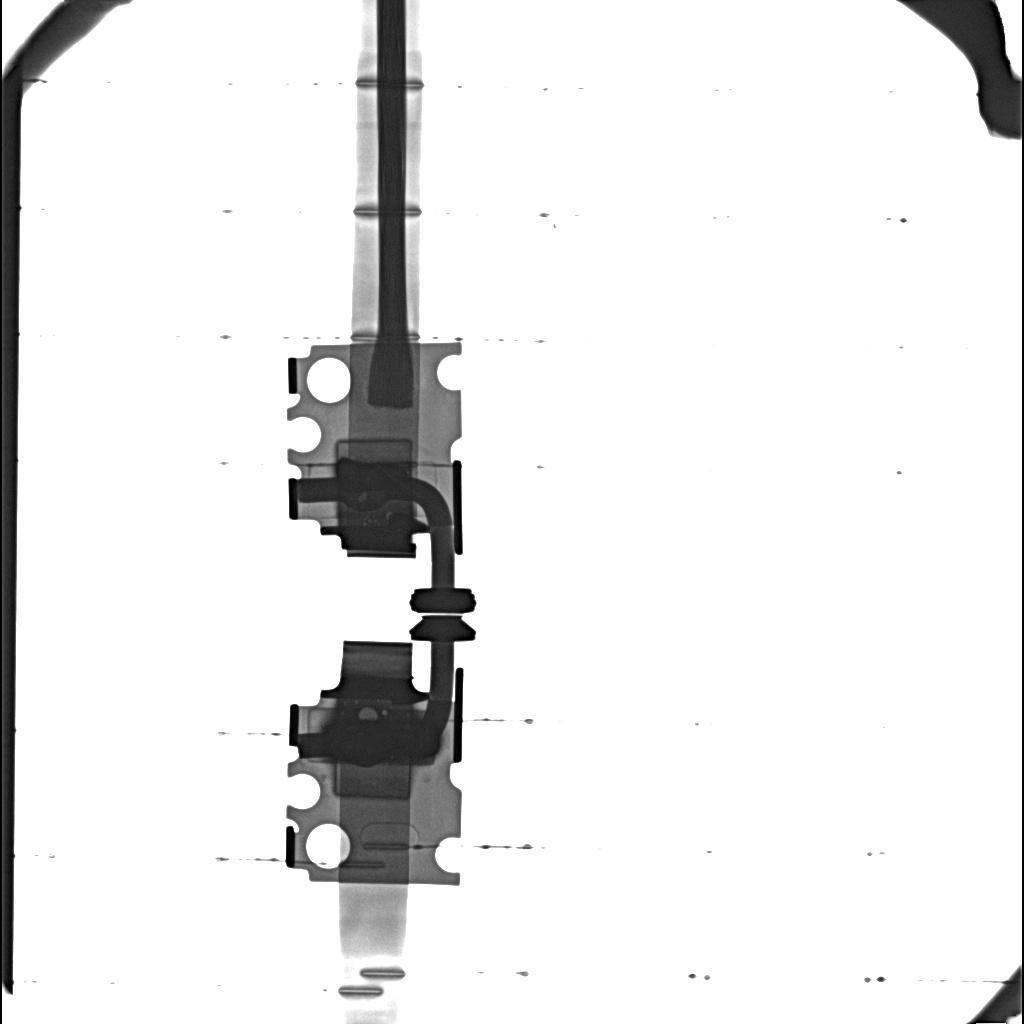PX: (333, 764, 412, 800), (336, 438, 413, 468)
QP: (359, 707, 377, 720)
SX: (324, 716, 440, 766), (338, 458, 407, 492)
